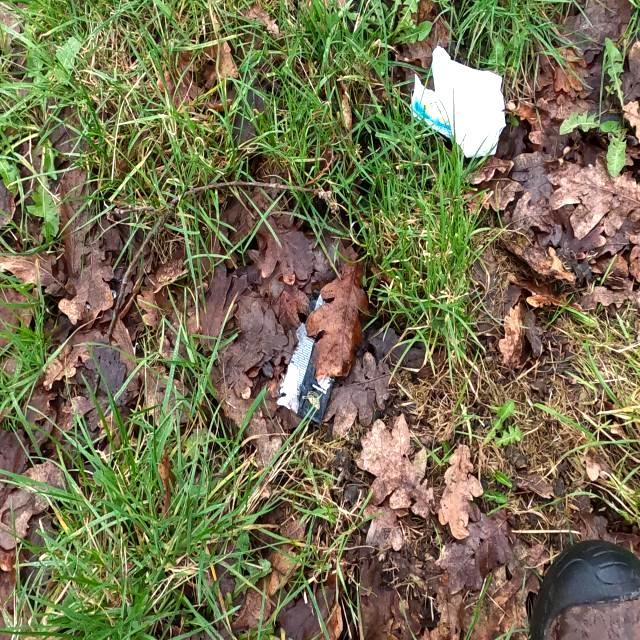Plastic: (408, 44, 507, 160), (275, 287, 337, 425)
